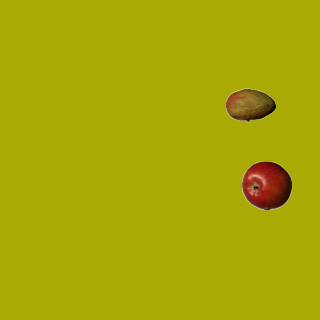Apple Braeburn: (241, 160, 291, 210)
Papaya: (225, 80, 275, 130)
